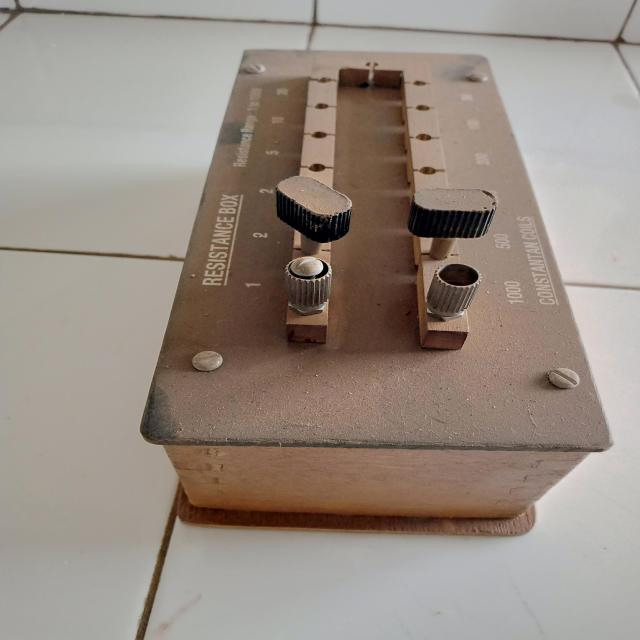Pinned Resistance Box: (128, 27, 622, 549)
